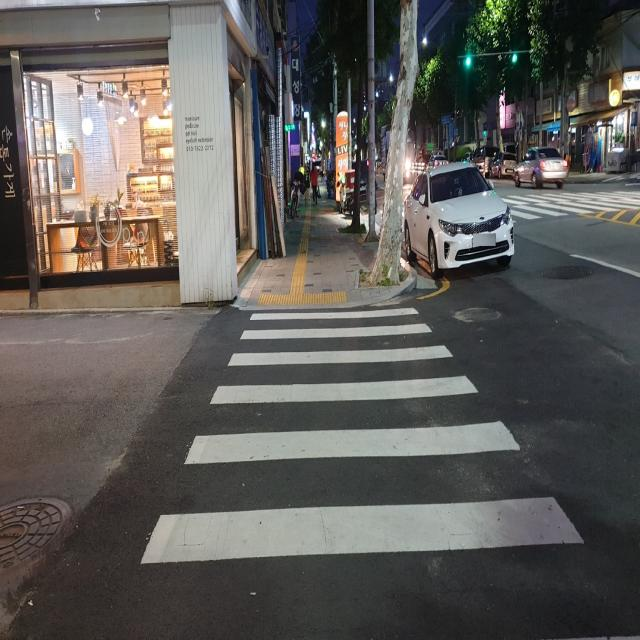횡단보도: (138, 300, 587, 571), (498, 193, 640, 225)
